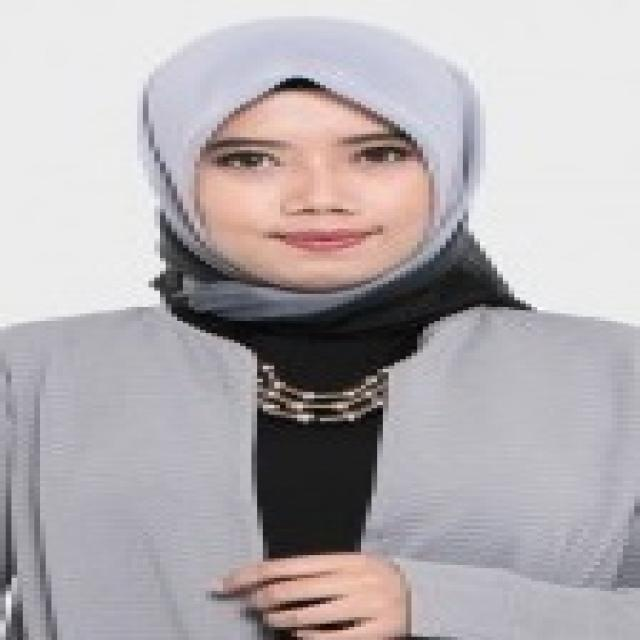head: (142, 20, 480, 294)
